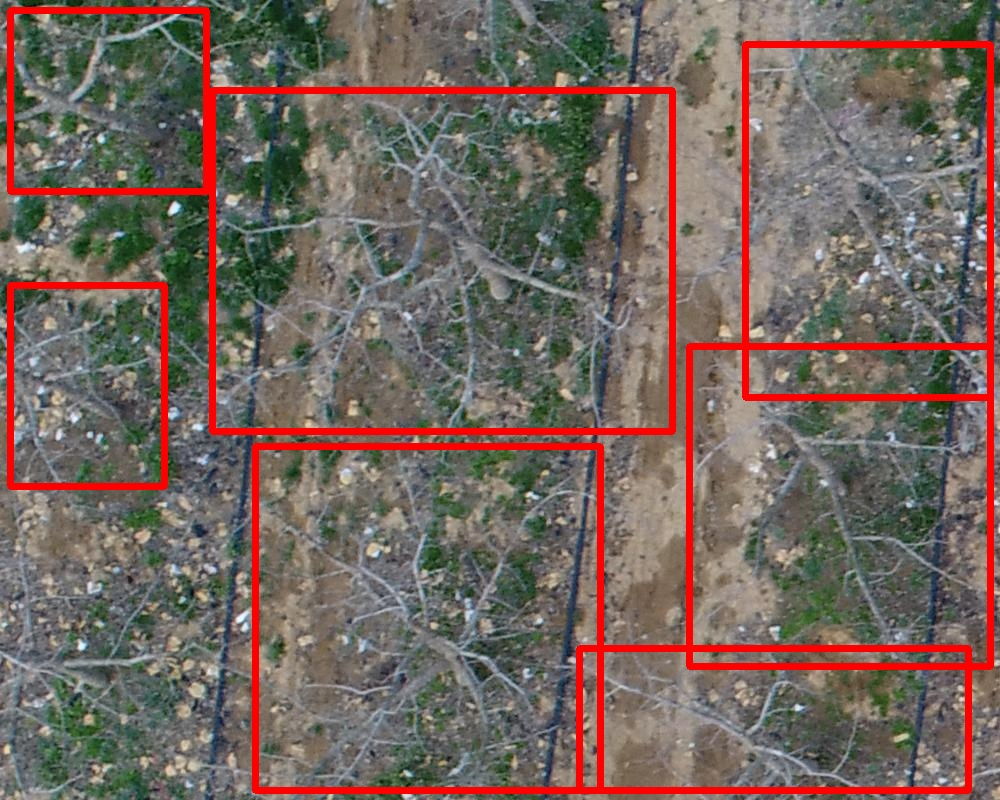apple: (212, 90, 672, 431), (255, 446, 600, 790), (689, 346, 990, 666), (745, 44, 990, 397), (579, 648, 968, 790), (10, 10, 206, 191), (10, 285, 164, 486)
